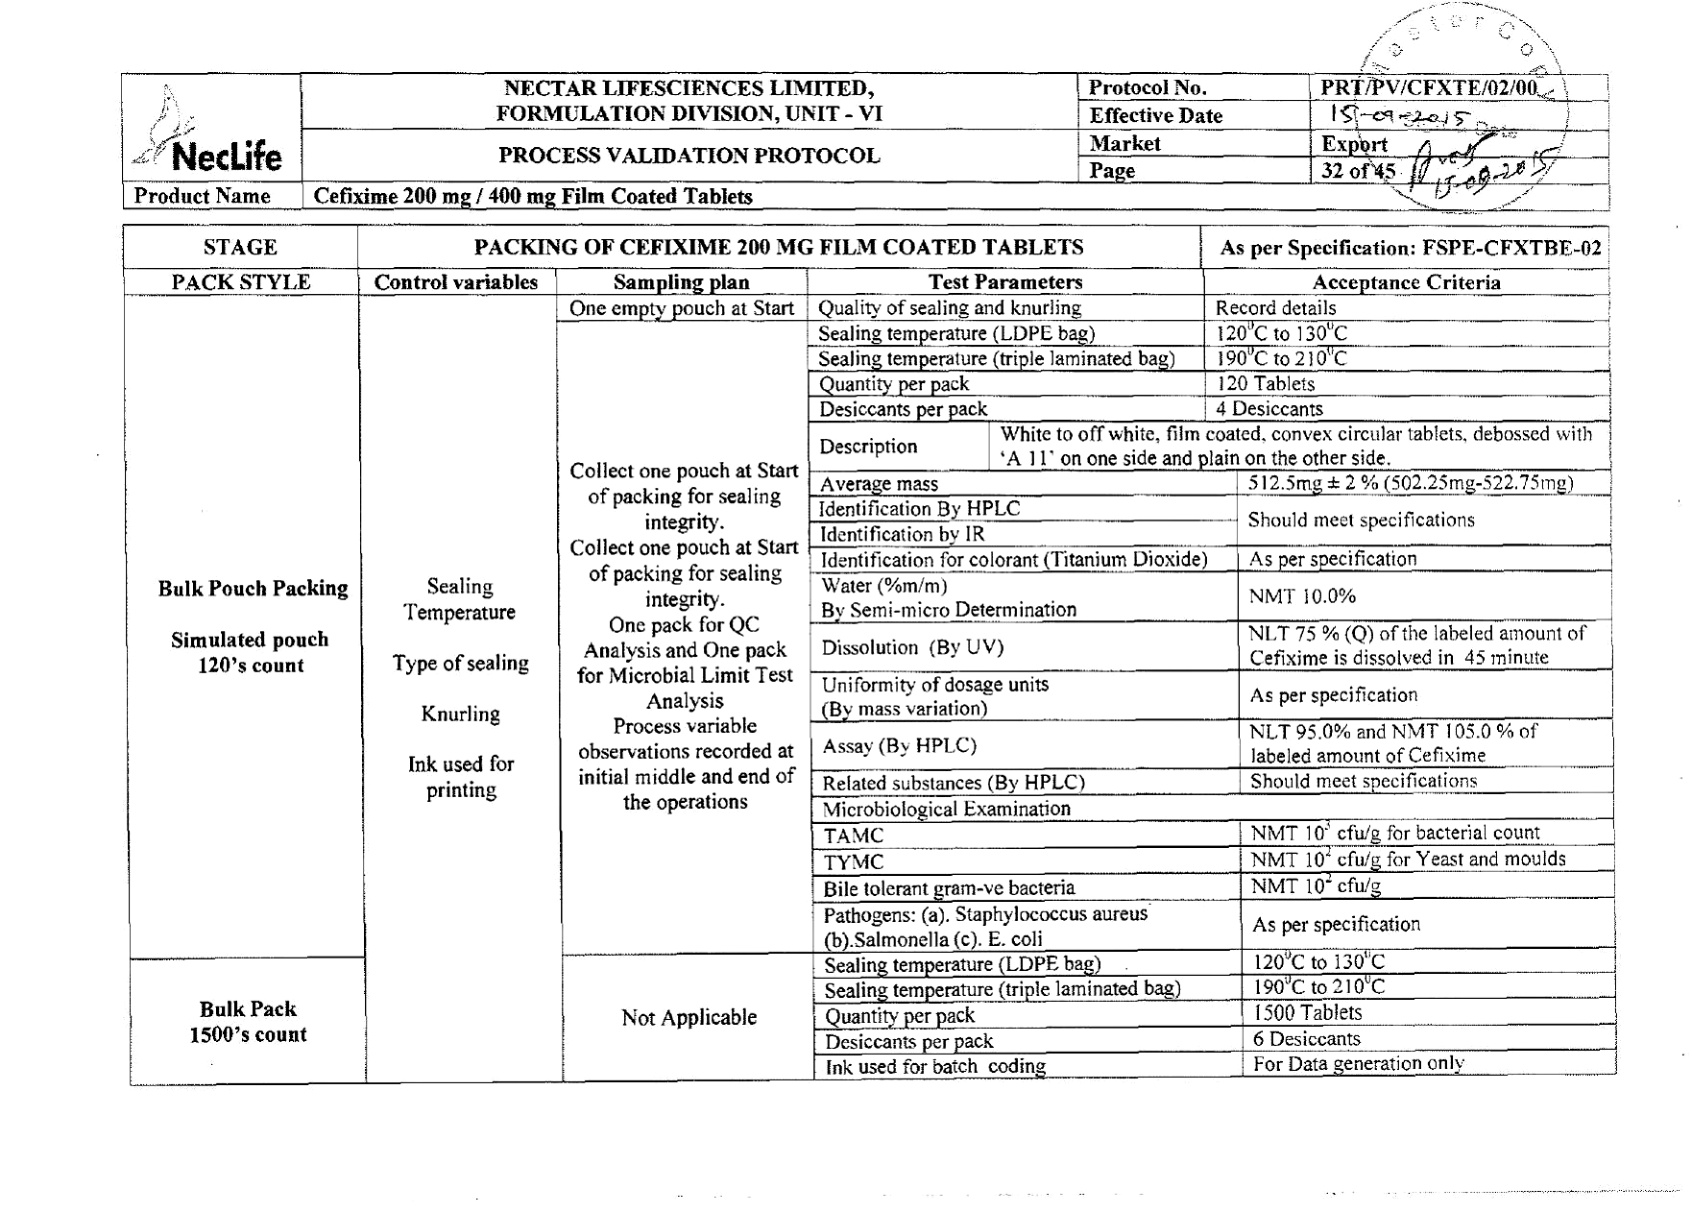merged_cells: (121, 223, 1619, 1076), (118, 70, 1611, 214)
